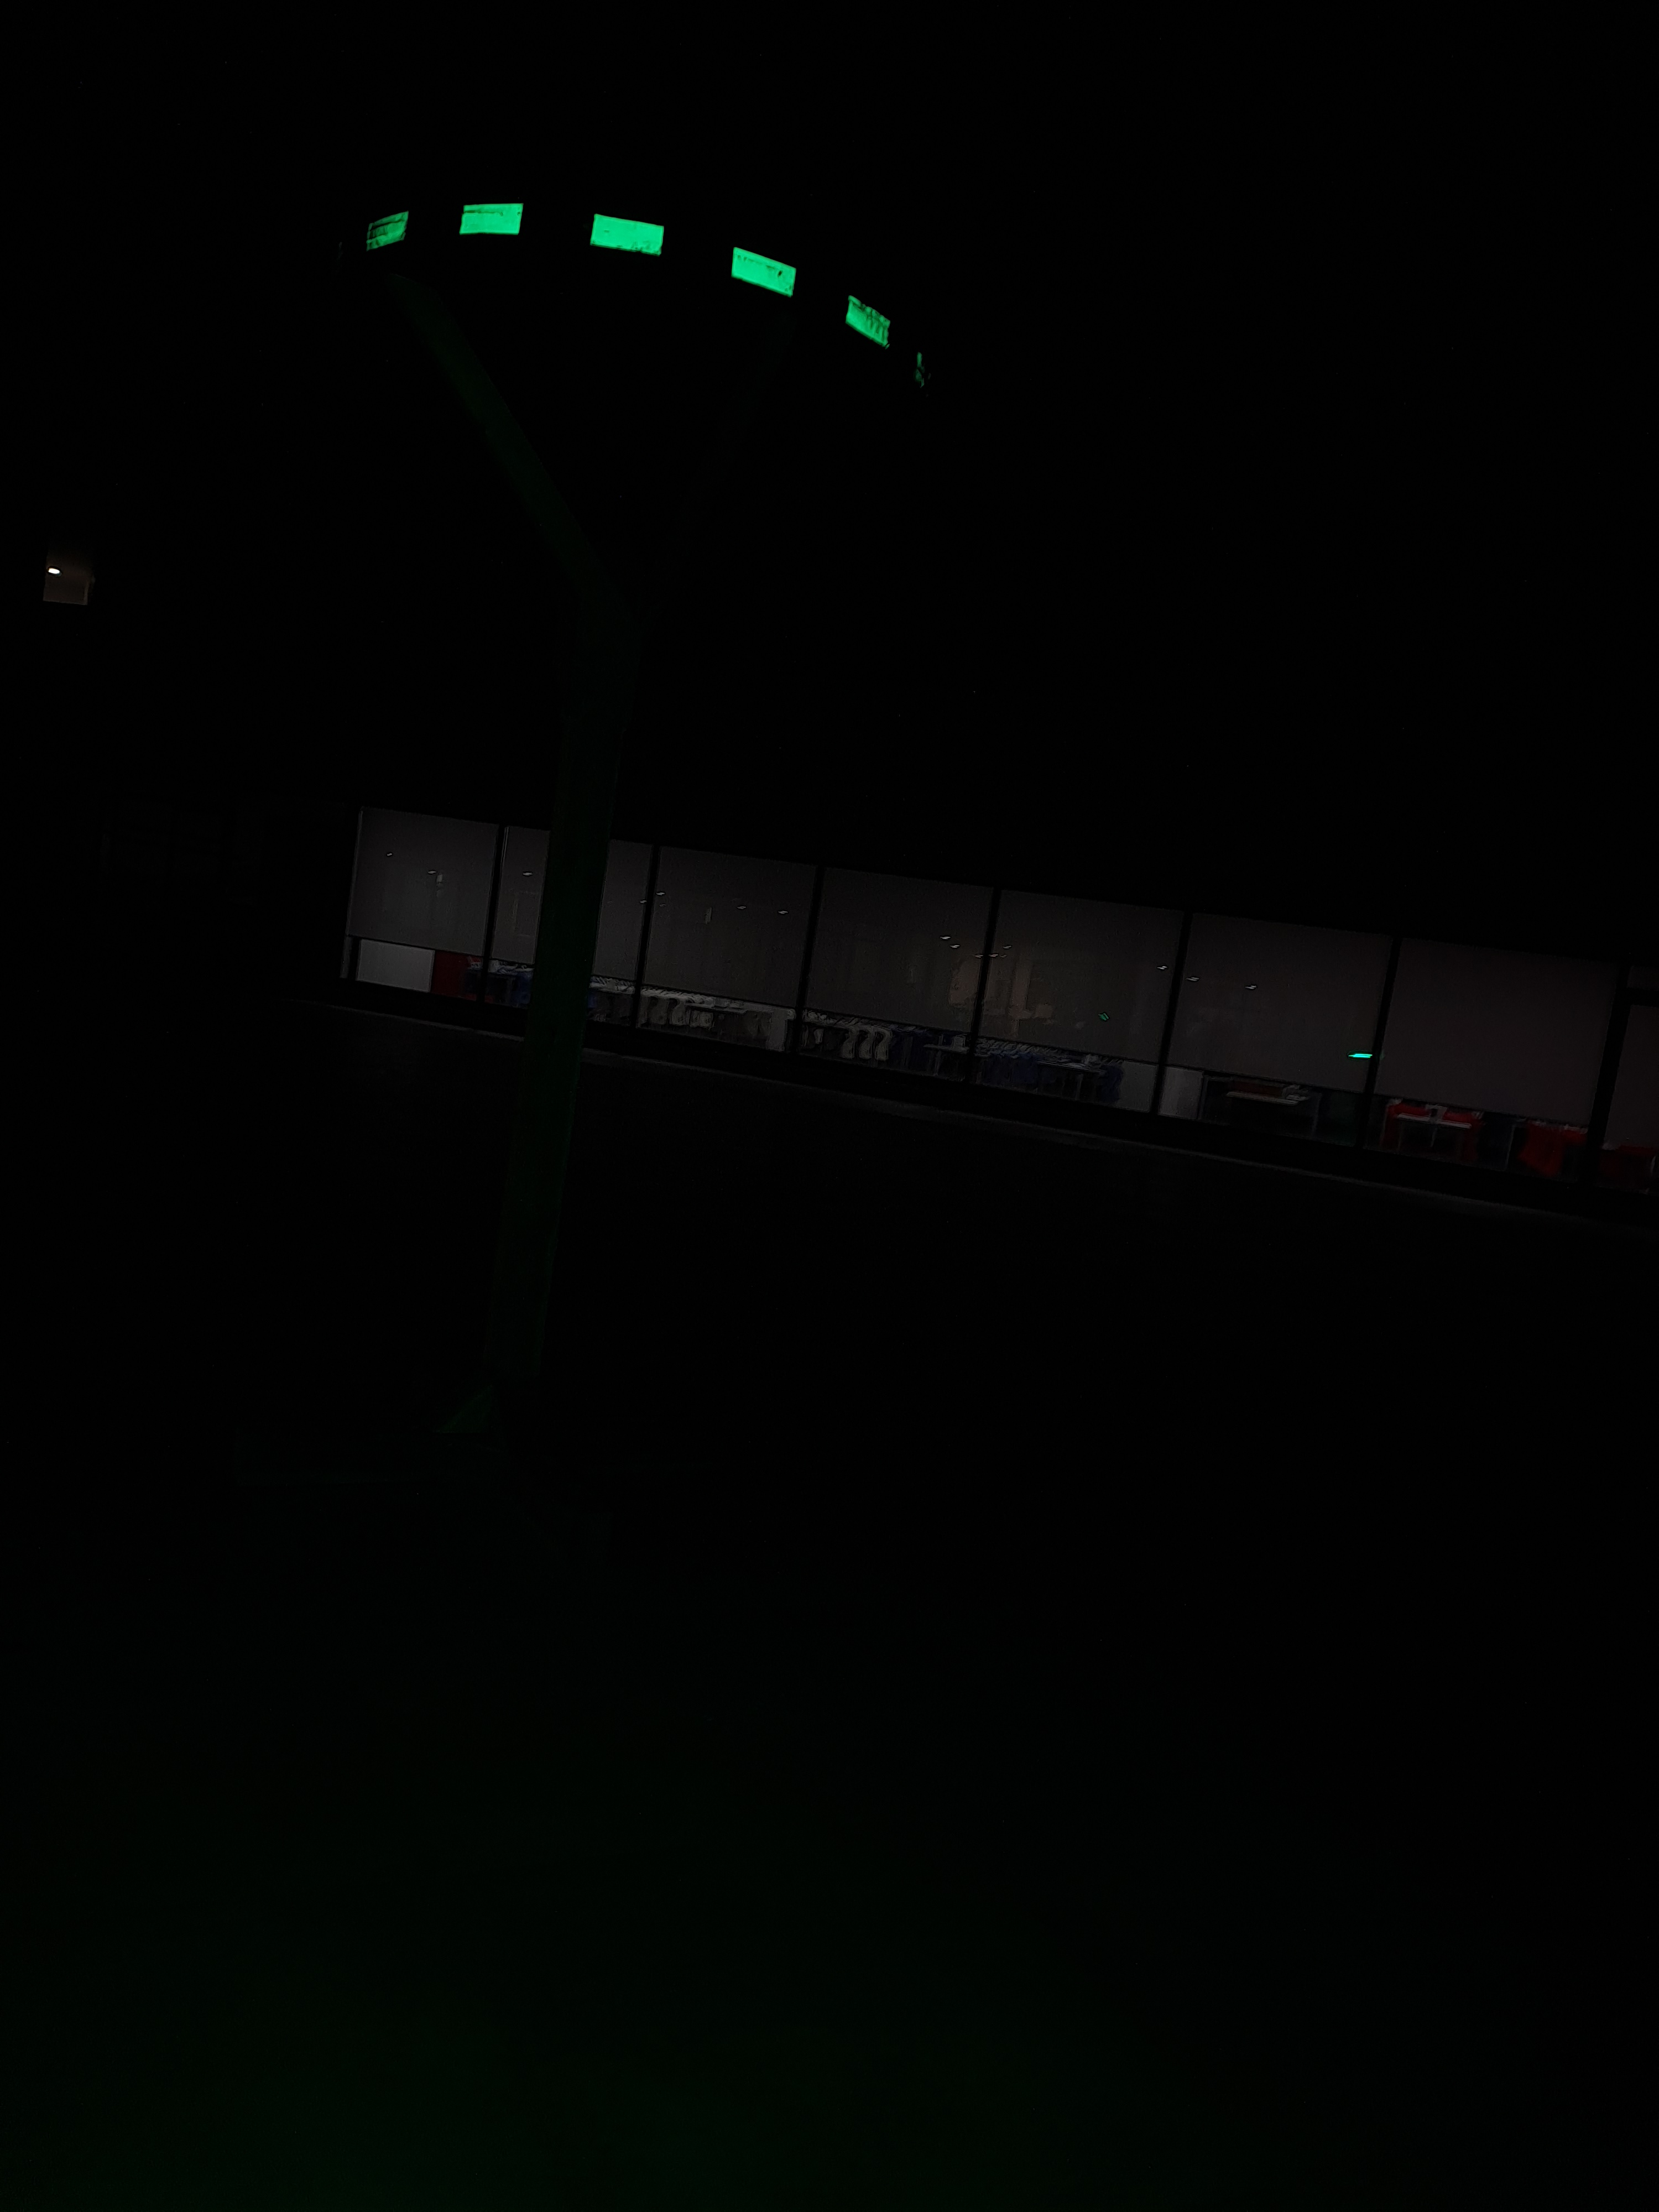hoop: (359, 192, 899, 361)
